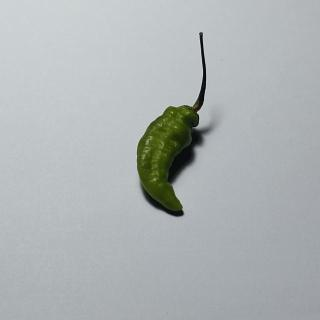Cabai Hijau: (134, 30, 211, 222)
